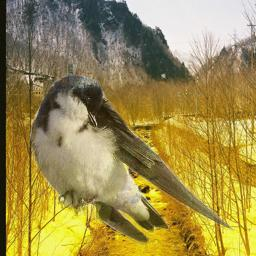Swallow: (26, 72, 235, 247)
